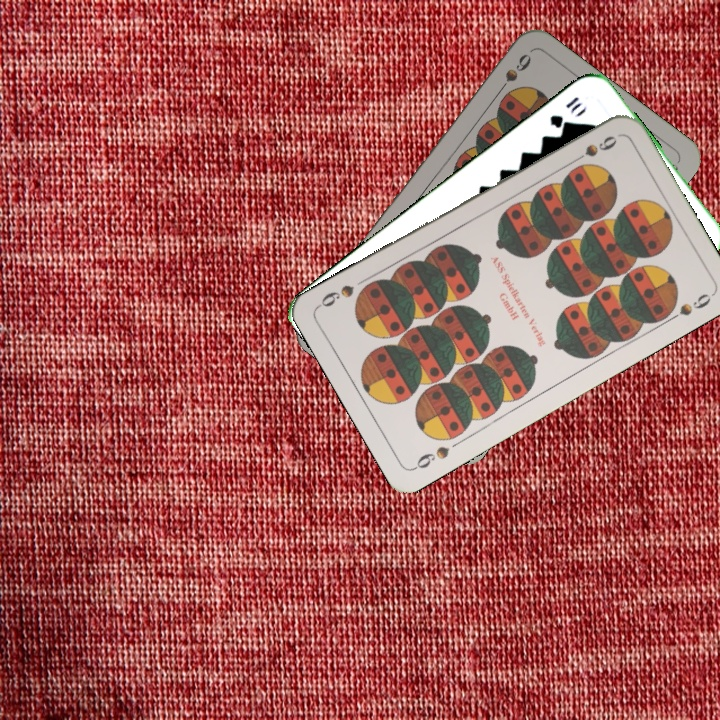G10: (545, 92, 584, 131)
S9: (491, 49, 535, 100), (566, 131, 620, 167), (409, 441, 452, 473)
